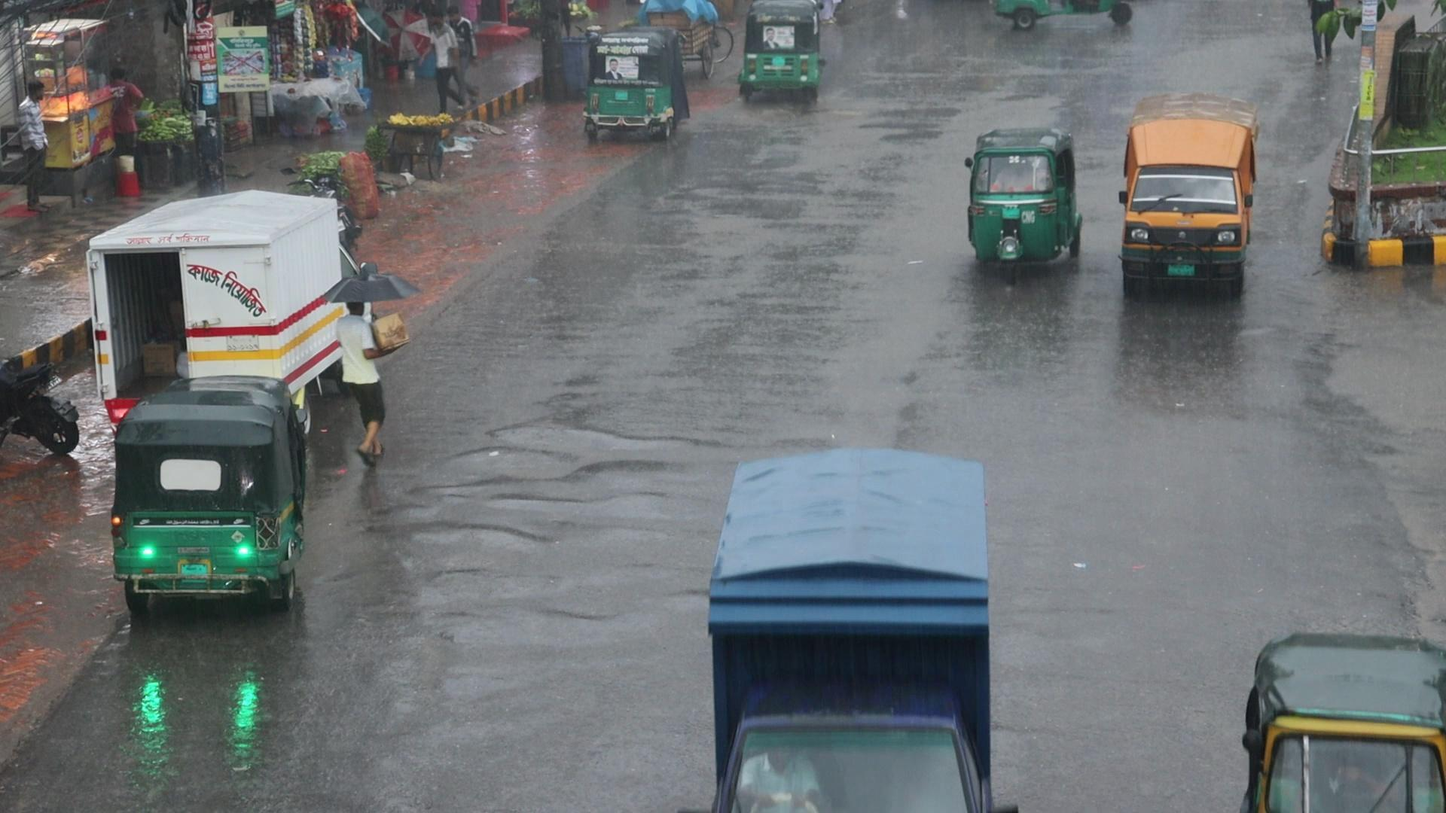Truck: (698, 441, 1006, 813)
